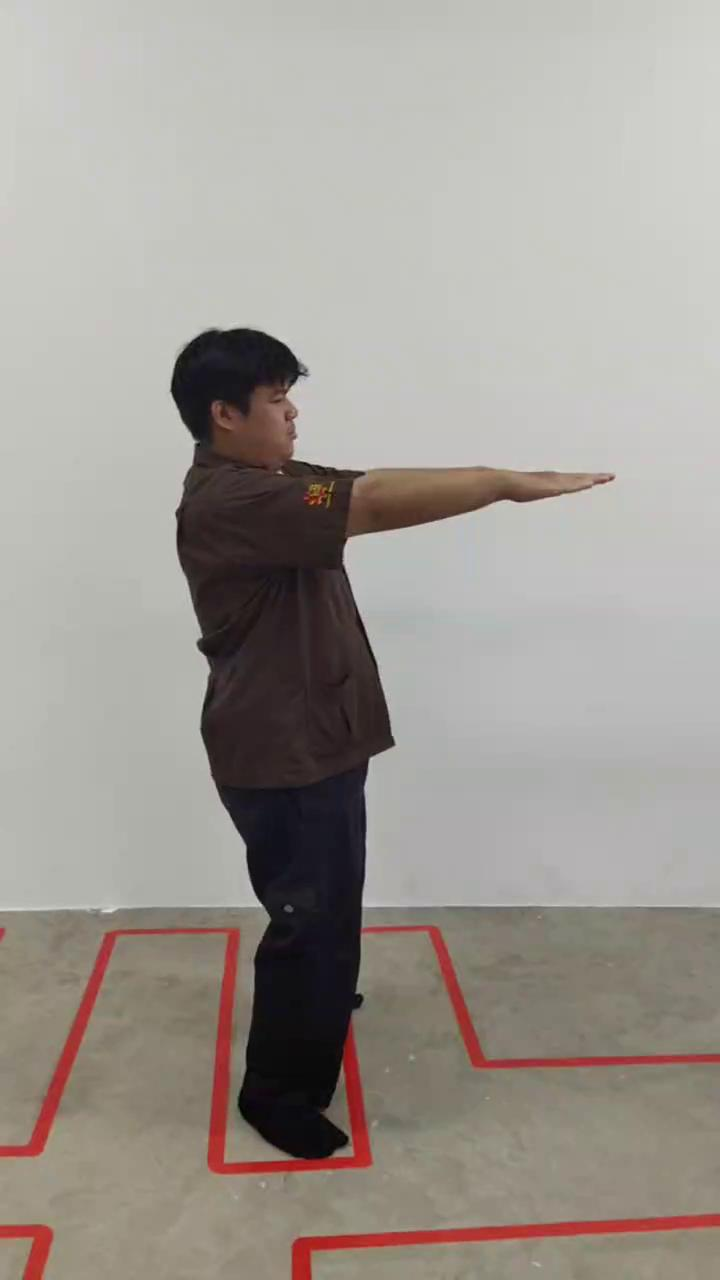squat up: (171, 327, 604, 1166)
